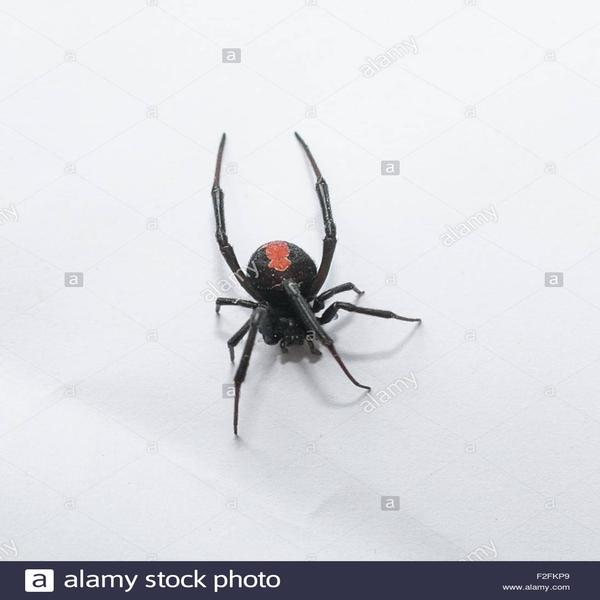Redback Spider: (210, 132, 422, 438)
